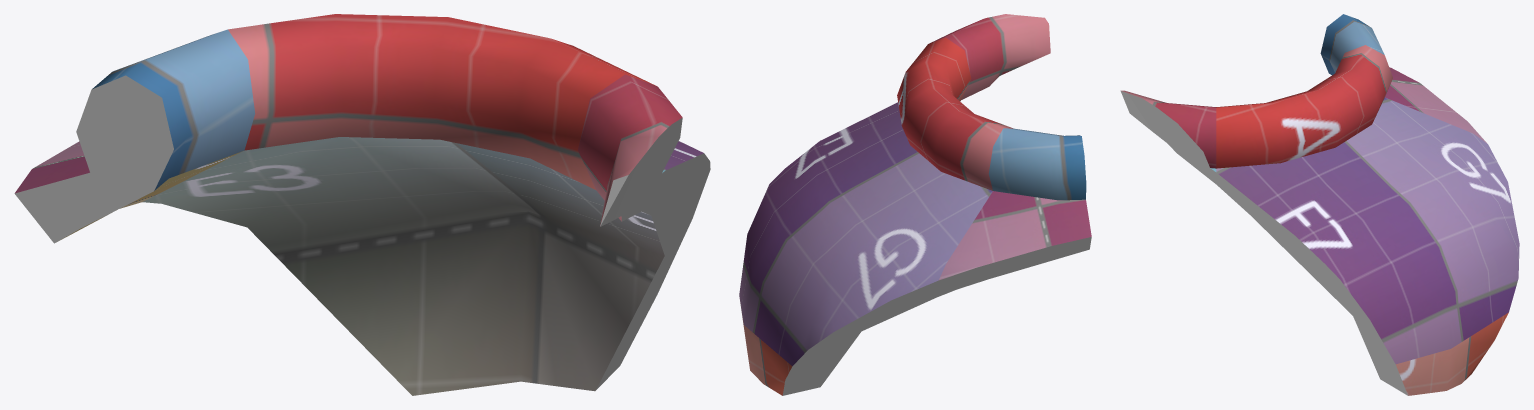
Rendered from SmallVase_SHAT_cell_002.fbx.
3 views of the same model, side by side, from view 1: azimuth 30°, elevation 25°; view 2: azimuth 150°, elevation 25°; view 3: azimuth 270°, elevation 25° (orthographic). The views are drawn at different scales.
Visible parts, largest first — view 1: SmallVase_SHAT_cell_002; view 2: SmallVase_SHAT_cell_002; view 3: SmallVase_SHAT_cell_002.
Boxes of the visible parts, x1=… form: SmallVase_SHAT_cell_002: x1=14, y1=14, x2=710, y2=395; SmallVase_SHAT_cell_002: x1=739, y1=14, x2=1091, y2=395; SmallVase_SHAT_cell_002: x1=1120, y1=14, x2=1519, y2=395.
Bounding box in the file's own units: 0.634 × 0.4547 × 0.6498.
2 materials, 1 textured.
